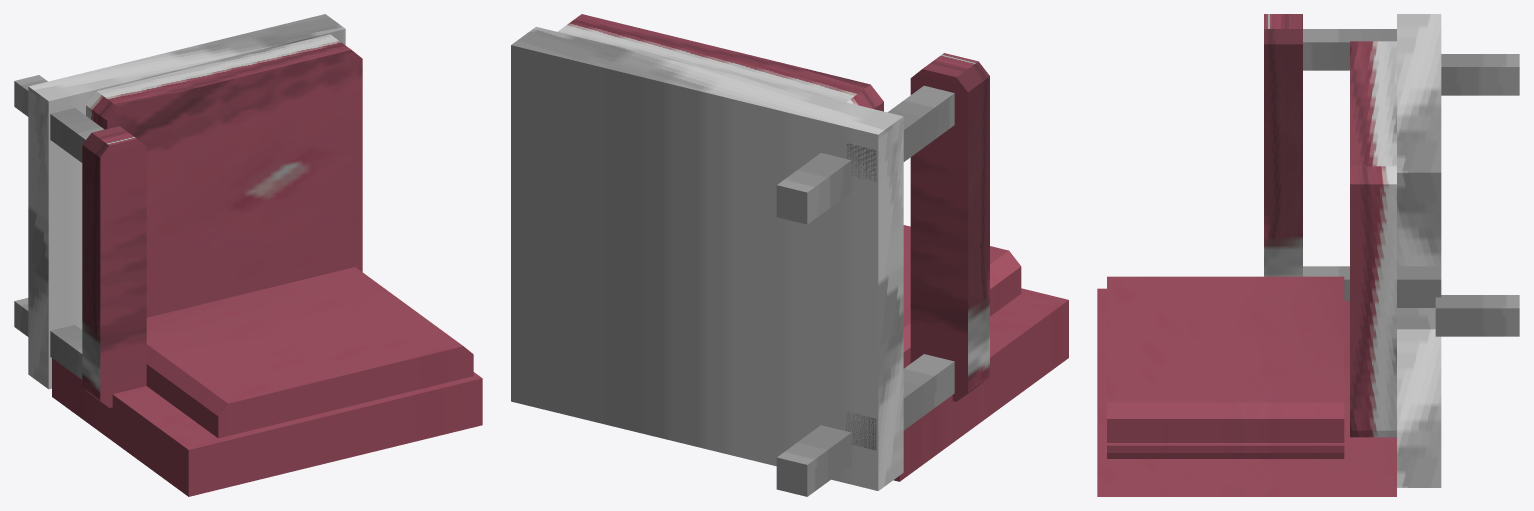
File: pz_sofa_seating_indoor_03_victorian_c1_0_0.obj
3 renders of one model, left to right at view 1: azimuth 30°, elevation 25°; view 2: azimuth 150°, elevation 25°; view 3: azimuth 270°, elevation 25°, orthographic. The views are drawn at different scales.
Size of the model in its own units: 0.99 by 0.915 by 1.08.
1 material, 1 textured.
